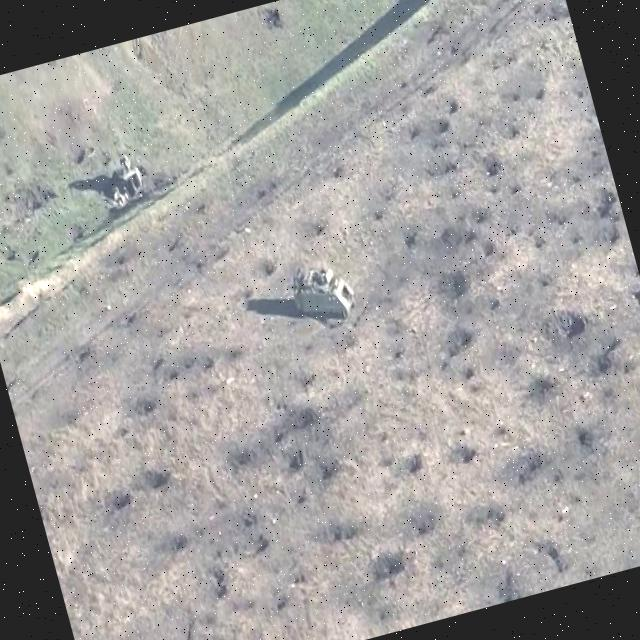APC: (288, 256, 365, 337)
Destroyed: (103, 153, 151, 212)
